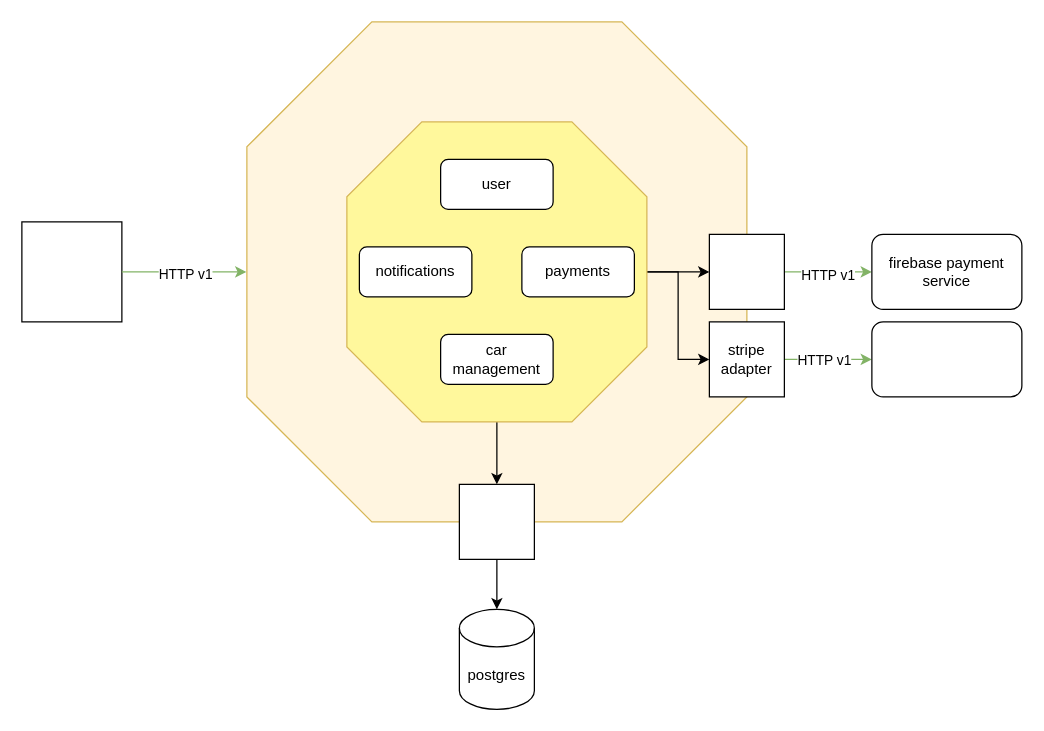
Some shapes in this 1044 by 731 pixel diagram are drawn without their labels. Each missing label, with the box of its shape:
client: (21, 221, 122, 322)
firebase adapter: (708, 233, 784, 309)
postgres adapter: (458, 483, 534, 559)
stripe payment service: (871, 321, 1022, 397)
